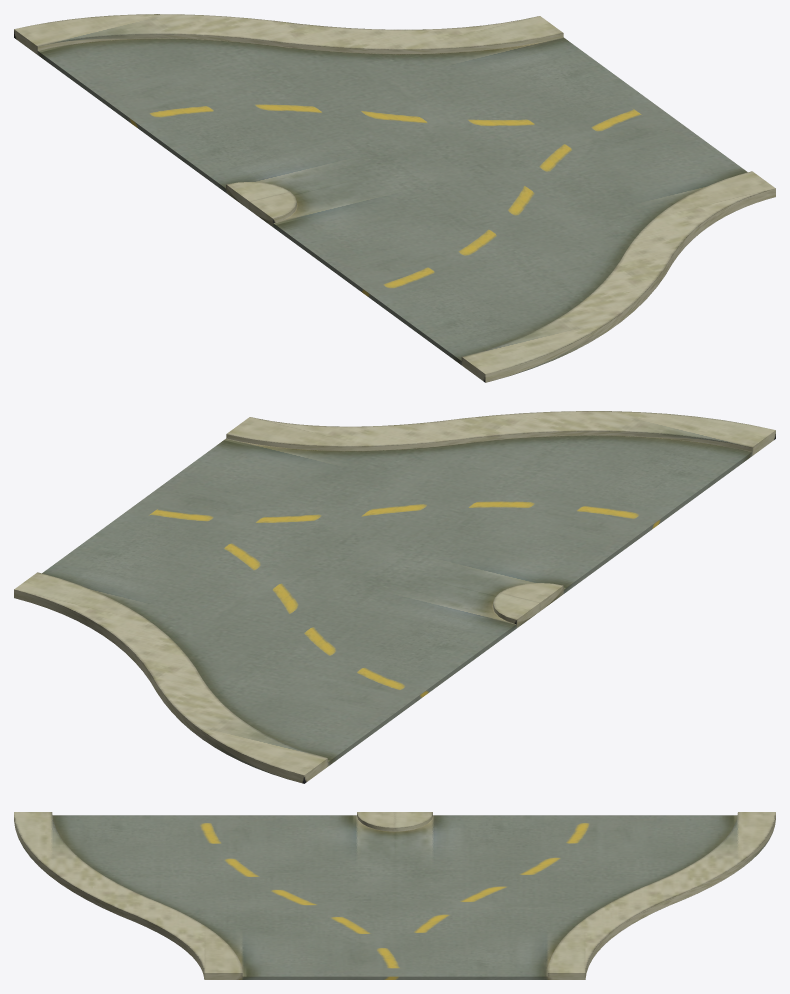
File: road-split-2.glb
The picture shows the model from 3 angles, top to bottom: view 1: azimuth 30°, elevation 25°; view 2: azimuth 150°, elevation 25°; view 3: azimuth 270°, elevation 25°; orthographic projection. The views are drawn at different scales.
Visible parts, largest first — view 1: road-split; view 2: road-split; view 3: road-split.
Boxes of the visible parts, x1,y1,x2,y2 form: road-split: (14, 14, 775, 382); road-split: (14, 411, 775, 783); road-split: (14, 812, 775, 979).
Bounding box in the file's own units: 1 × 0.02 × 2.
1 material, 1 textured.
